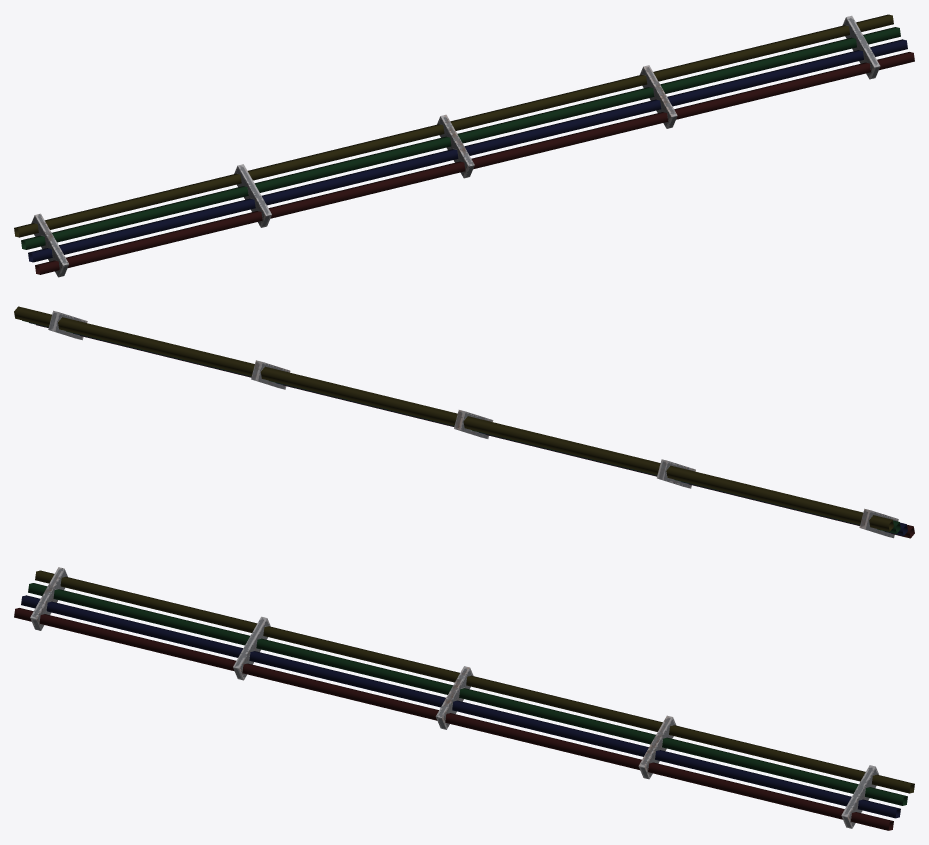
The model's file is PF_VentWire.fbx.
3 renders of one model, top to bottom at view 1: azimuth 30°, elevation 25°; view 2: azimuth 150°, elevation 25°; view 3: azimuth 330°, elevation 25°, orthographic.
Parts seen in each view (by area): view 1: Wires_001, Cube_016; view 2: Wires_001, Cube_016; view 3: Wires_001, Cube_016.
Part boxes in pixels (x1=…): Wires_001: x1=14, y1=14, x2=914, y2=274; Cube_016: x1=31, y1=15, x2=880, y2=277; Wires_001: x1=14, y1=306, x2=914, y2=538; Cube_016: x1=48, y1=310, x2=898, y2=538; Wires_001: x1=14, y1=570, x2=914, y2=830; Cube_016: x1=30, y1=567, x2=878, y2=828.
Bounding box in the file's own units: 200 × 9.9 × 13.22.
